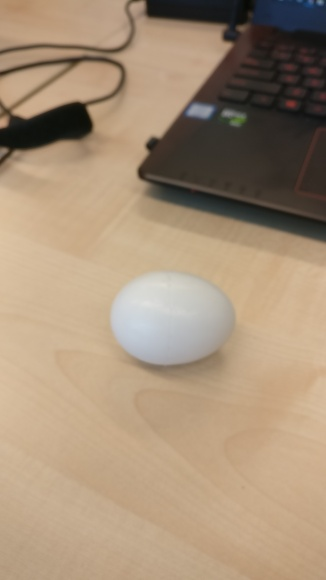egg: (110, 266, 235, 369)
